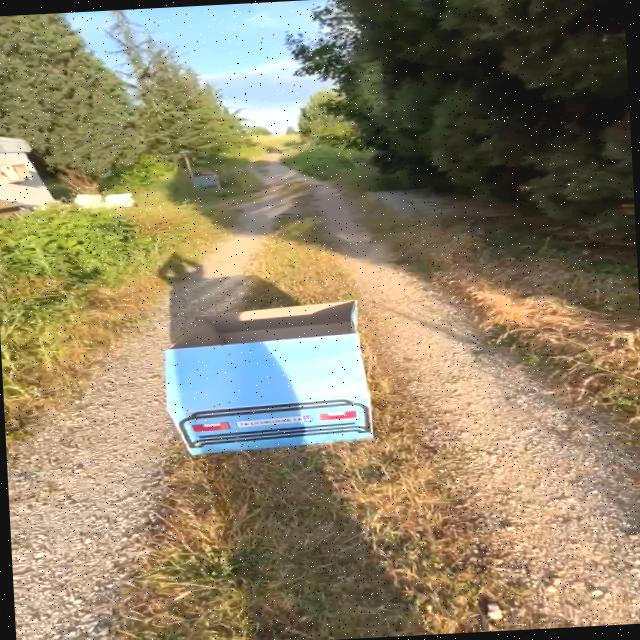blue_car: (106, 270, 418, 469)
